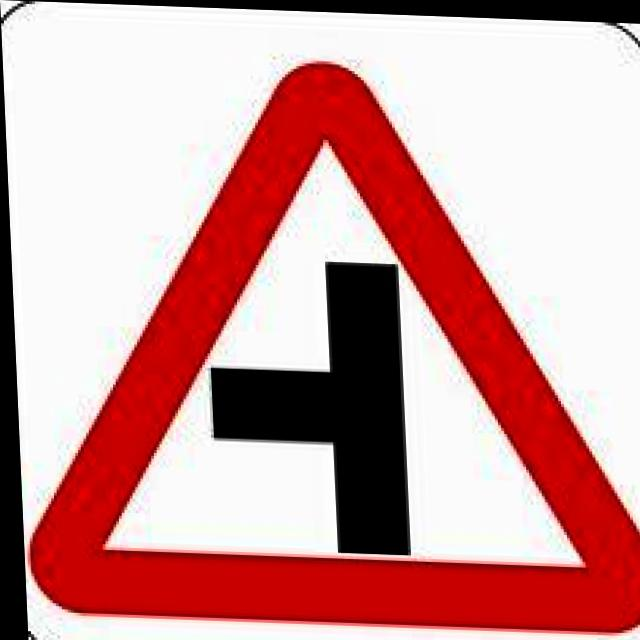SIDE_ROAD_LEFT: (4, 42, 640, 638)
